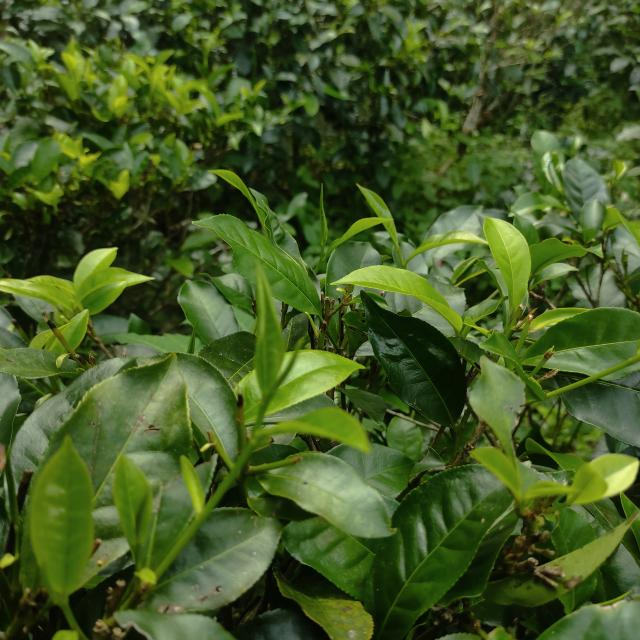unopened_leaf: (252, 326, 316, 418), (128, 483, 158, 549), (312, 178, 334, 257)
